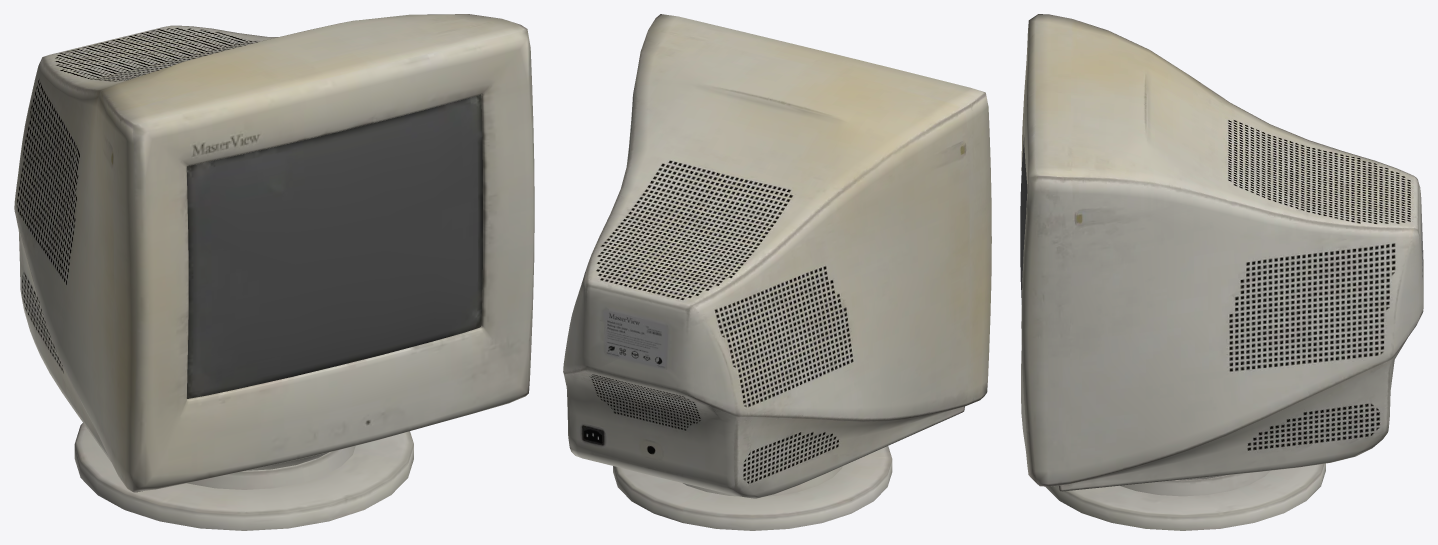
File: crt_monitor.glb
3 renders of one model, left to right at view 1: azimuth 30°, elevation 25°; view 2: azimuth 150°, elevation 25°; view 3: azimuth 270°, elevation 25°, orthographic. The views are drawn at different scales.
Visible parts, largest first — view 1: CRT_Monitor_monitor_plastic_0, CRT_Monitor_monitor_glass_0; view 2: CRT_Monitor_monitor_plastic_0; view 3: CRT_Monitor_monitor_plastic_0, CRT_Monitor_monitor_glass_0.
Boxes of the visible parts, box(x1,y1,x2,y2) form: CRT_Monitor_monitor_plastic_0: box(14, 14, 534, 530); CRT_Monitor_monitor_glass_0: box(186, 94, 482, 398); CRT_Monitor_monitor_plastic_0: box(563, 14, 991, 530); CRT_Monitor_monitor_plastic_0: box(1021, 14, 1423, 530); CRT_Monitor_monitor_glass_0: box(1020, 137, 1027, 304).
Size of the model in its own units: 0.4059 by 0.433 by 0.4201.
2 materials, 2 textured.
